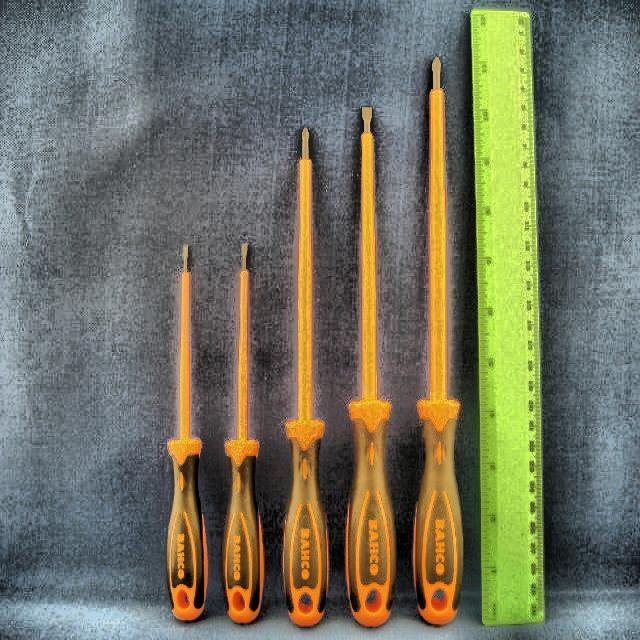screwdriver: (411, 57, 467, 627), (344, 107, 396, 628), (283, 124, 330, 628), (224, 244, 266, 622), (168, 246, 210, 622)
